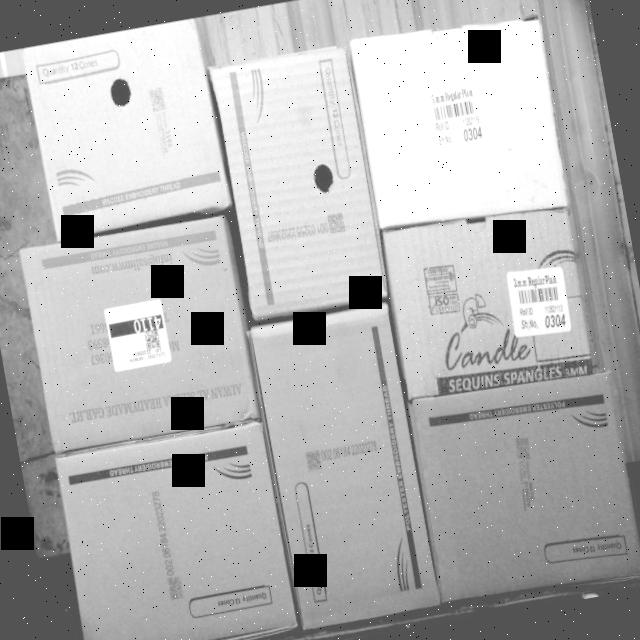box: (251, 304, 444, 630), (21, 215, 259, 452), (408, 367, 640, 601), (54, 422, 298, 640), (212, 51, 390, 323), (348, 13, 570, 230), (21, 17, 230, 238), (381, 200, 597, 408)
